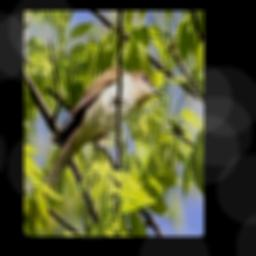Cuckoo: (39, 68, 165, 205)
